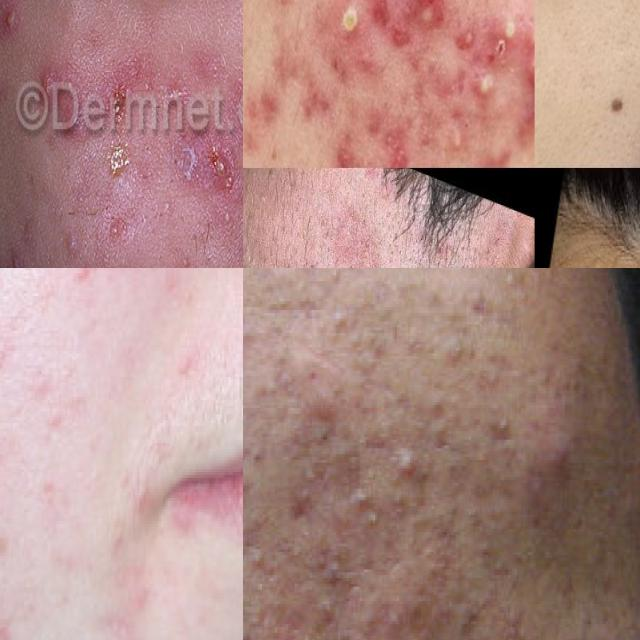acne_scars: (371, 115, 413, 168), (293, 82, 333, 134), (443, 56, 473, 113), (361, 0, 399, 44)
pustule: (327, 0, 368, 52), (469, 57, 499, 114), (498, 2, 526, 56)
sebo-crystan-conglo: (510, 20, 534, 134), (409, 0, 454, 57)
